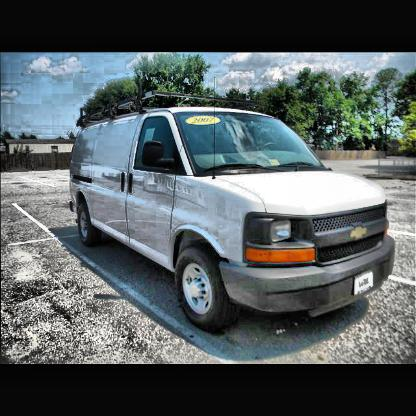Chevrolet Express Cargo Van 2007: (67, 94, 395, 346)
